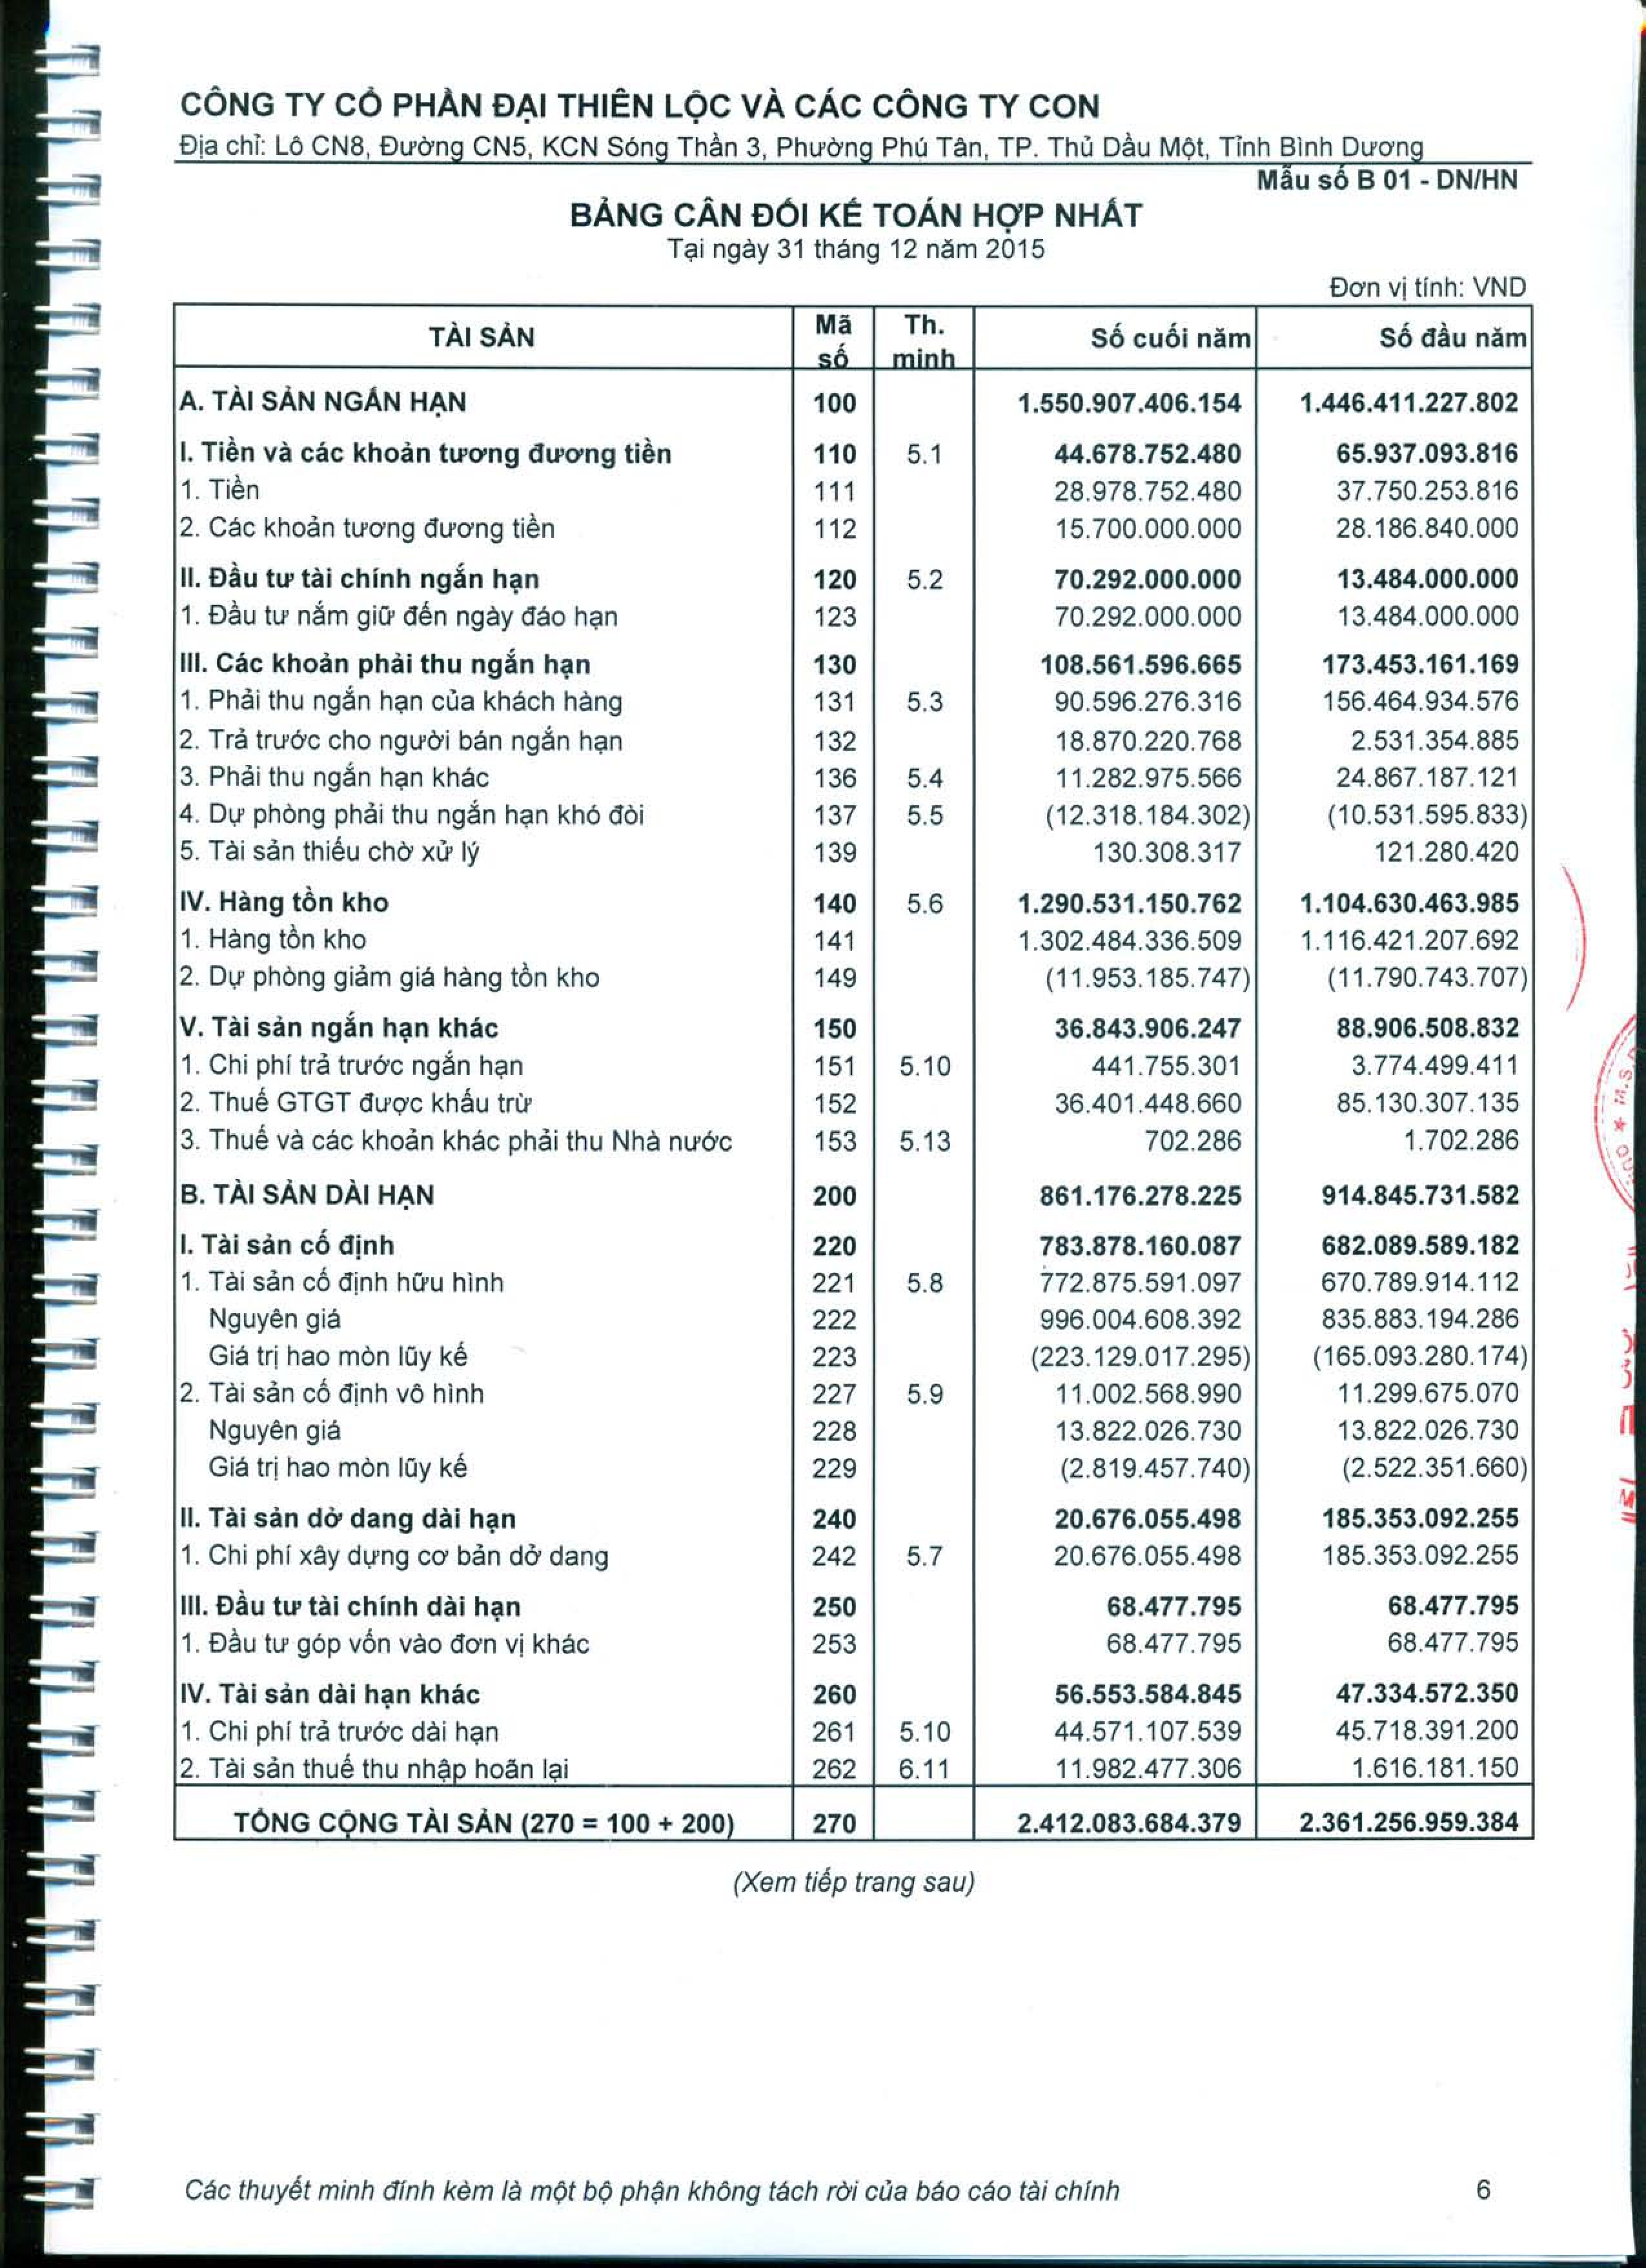table: (157, 296, 1549, 1854)
table column: (160, 296, 738, 1854), (956, 296, 1245, 1854), (1255, 296, 1533, 1854), (836, 296, 940, 1854), (745, 296, 827, 1854)
table column header: (157, 308, 1549, 363)
table row: (157, 306, 1549, 361), (157, 1014, 1549, 1065), (157, 1081, 1549, 1132), (157, 424, 1549, 472), (157, 375, 1549, 421), (157, 1805, 1549, 1837), (157, 560, 1549, 588), (157, 590, 1549, 618), (157, 643, 1549, 671), (157, 502, 1549, 528), (157, 673, 1549, 699), (157, 701, 1549, 727), (157, 729, 1549, 755), (157, 787, 1549, 814), (157, 845, 1549, 872), (157, 930, 1549, 956), (157, 958, 1549, 984), (157, 986, 1549, 1013), (157, 1157, 1549, 1183), (157, 1240, 1549, 1266), (157, 1296, 1549, 1322), (157, 1324, 1549, 1351), (157, 1382, 1549, 1409), (157, 1410, 1549, 1437), (157, 1469, 1549, 1495), (157, 1497, 1549, 1523), (157, 1609, 1549, 1636), (157, 1696, 1549, 1722), (157, 474, 1549, 498), (157, 759, 1549, 784), (157, 875, 1549, 900), (157, 1185, 1549, 1210), (157, 1268, 1549, 1292), (157, 1352, 1549, 1377), (157, 1553, 1549, 1578), (157, 1581, 1549, 1606), (157, 1638, 1549, 1662), (157, 1726, 1549, 1750), (157, 1754, 1549, 1778)
